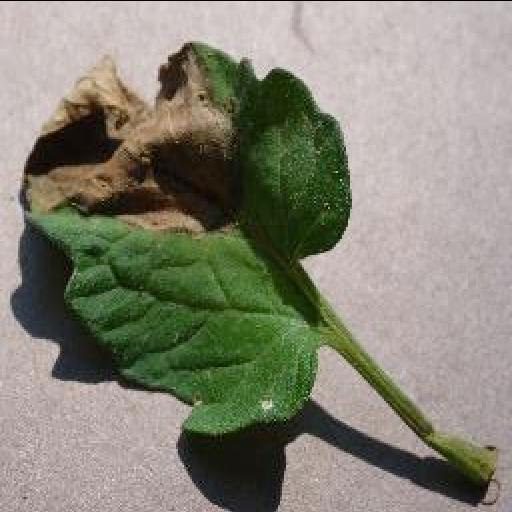disease_tomato: (18, 34, 352, 432)
